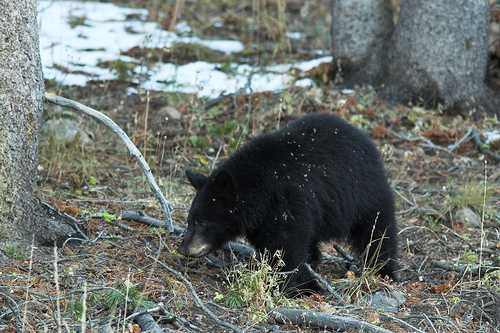bear: (169, 151, 297, 279)
